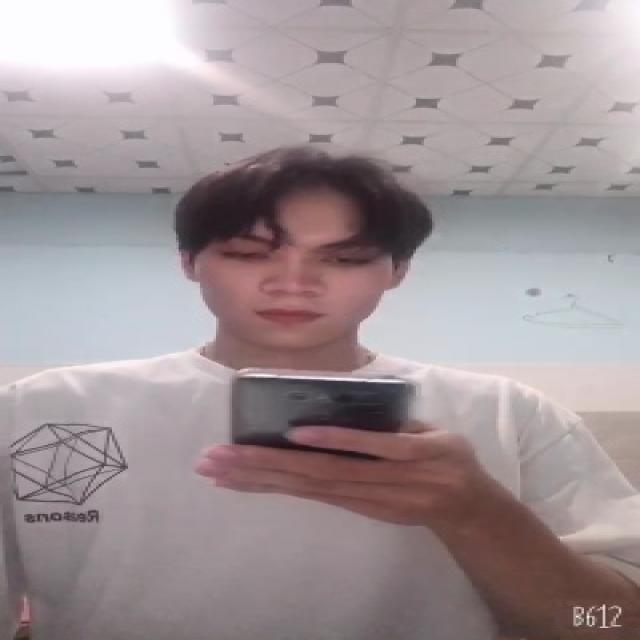Phone: (224, 366, 416, 455)
